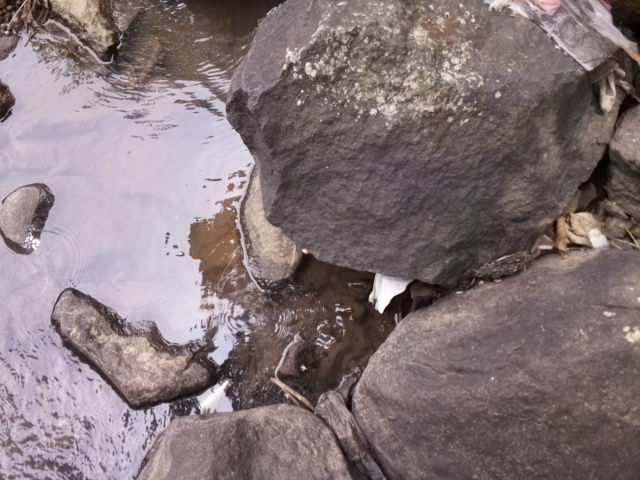Sampah_Styrofoam: (368, 273, 412, 314)
